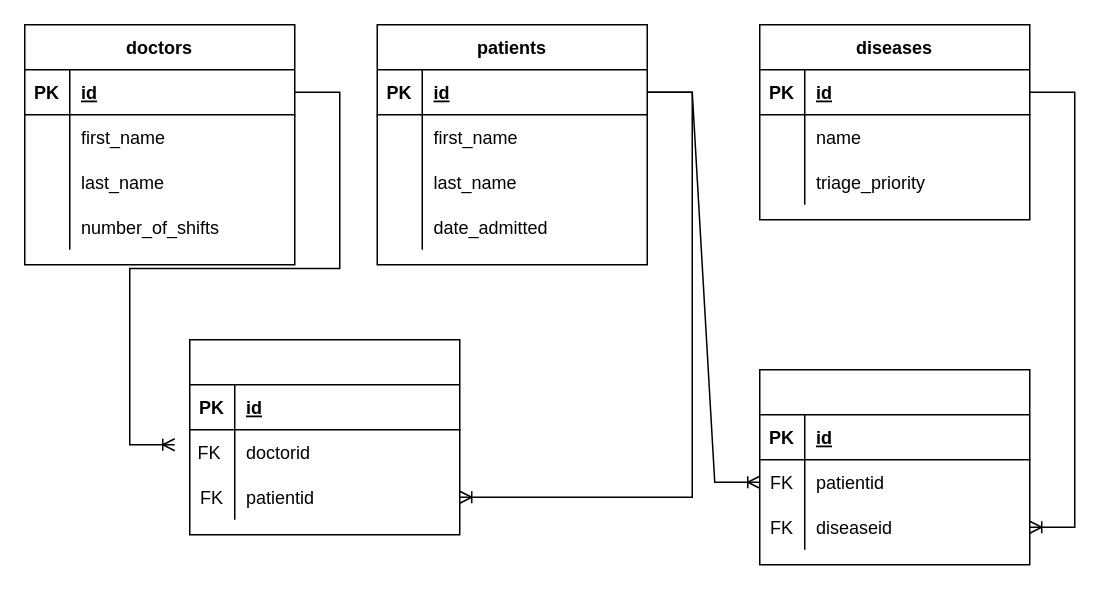
This 1100x590 diagram has some shape labels left out. Here are the shapes that lost their labels. From the top down, the box of each, then its label:
(188, 338, 460, 535): doctors_patients
(758, 368, 1030, 565): patients_diseases
